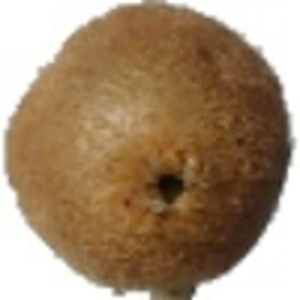kiwi: (2, 1, 293, 300)
